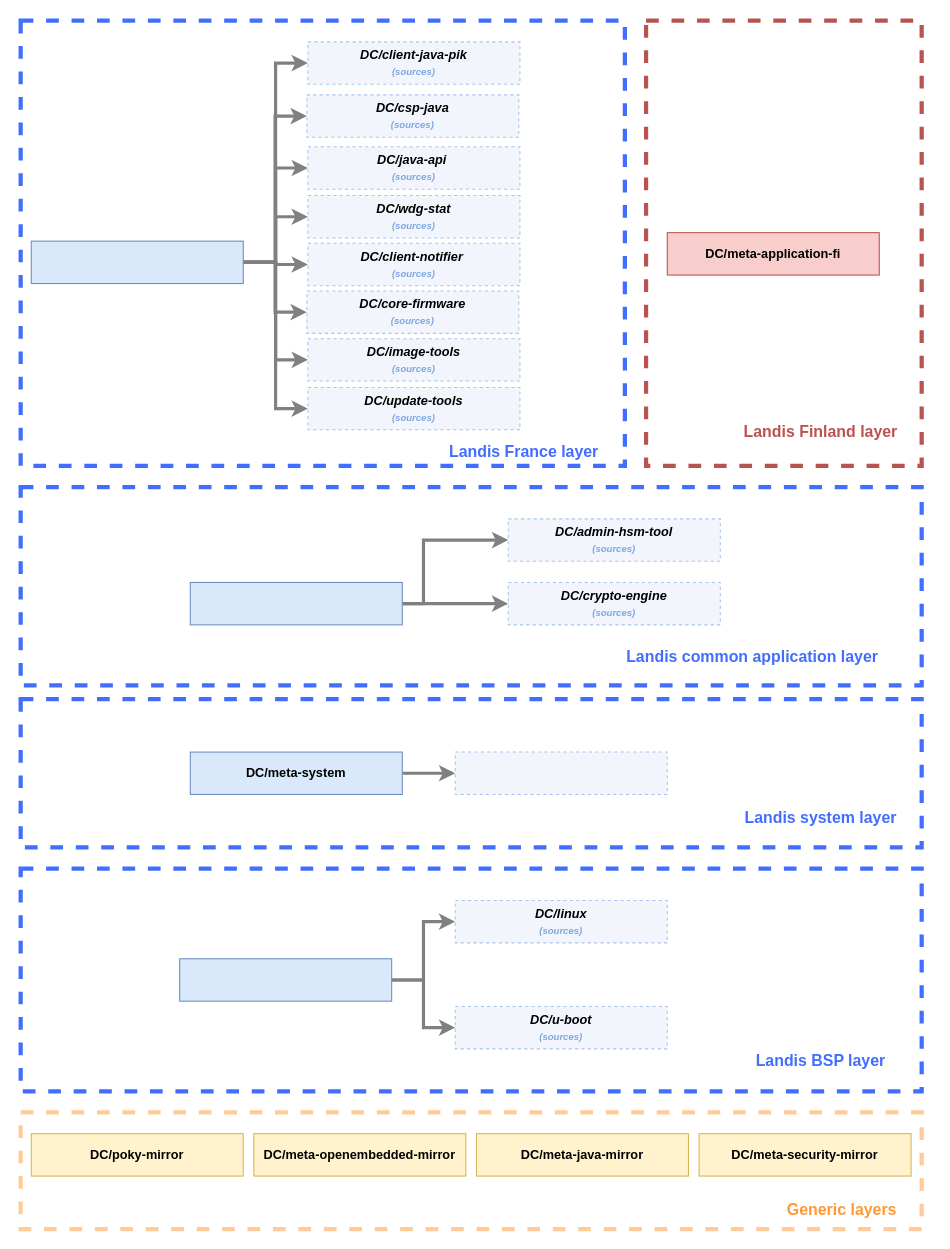
Image size: 950x1249. Some labels were removed from this diagram. The box of each missing label's shape, as (x1, y1, x2, y2) in pixels:
DC/meta-application-common: (189, 581, 402, 625)
DC/meta-application-fr: (30, 240, 243, 284)
DC/meta-bsp: (179, 958, 392, 1001)
DC/u-log (sources): (454, 751, 667, 794)
